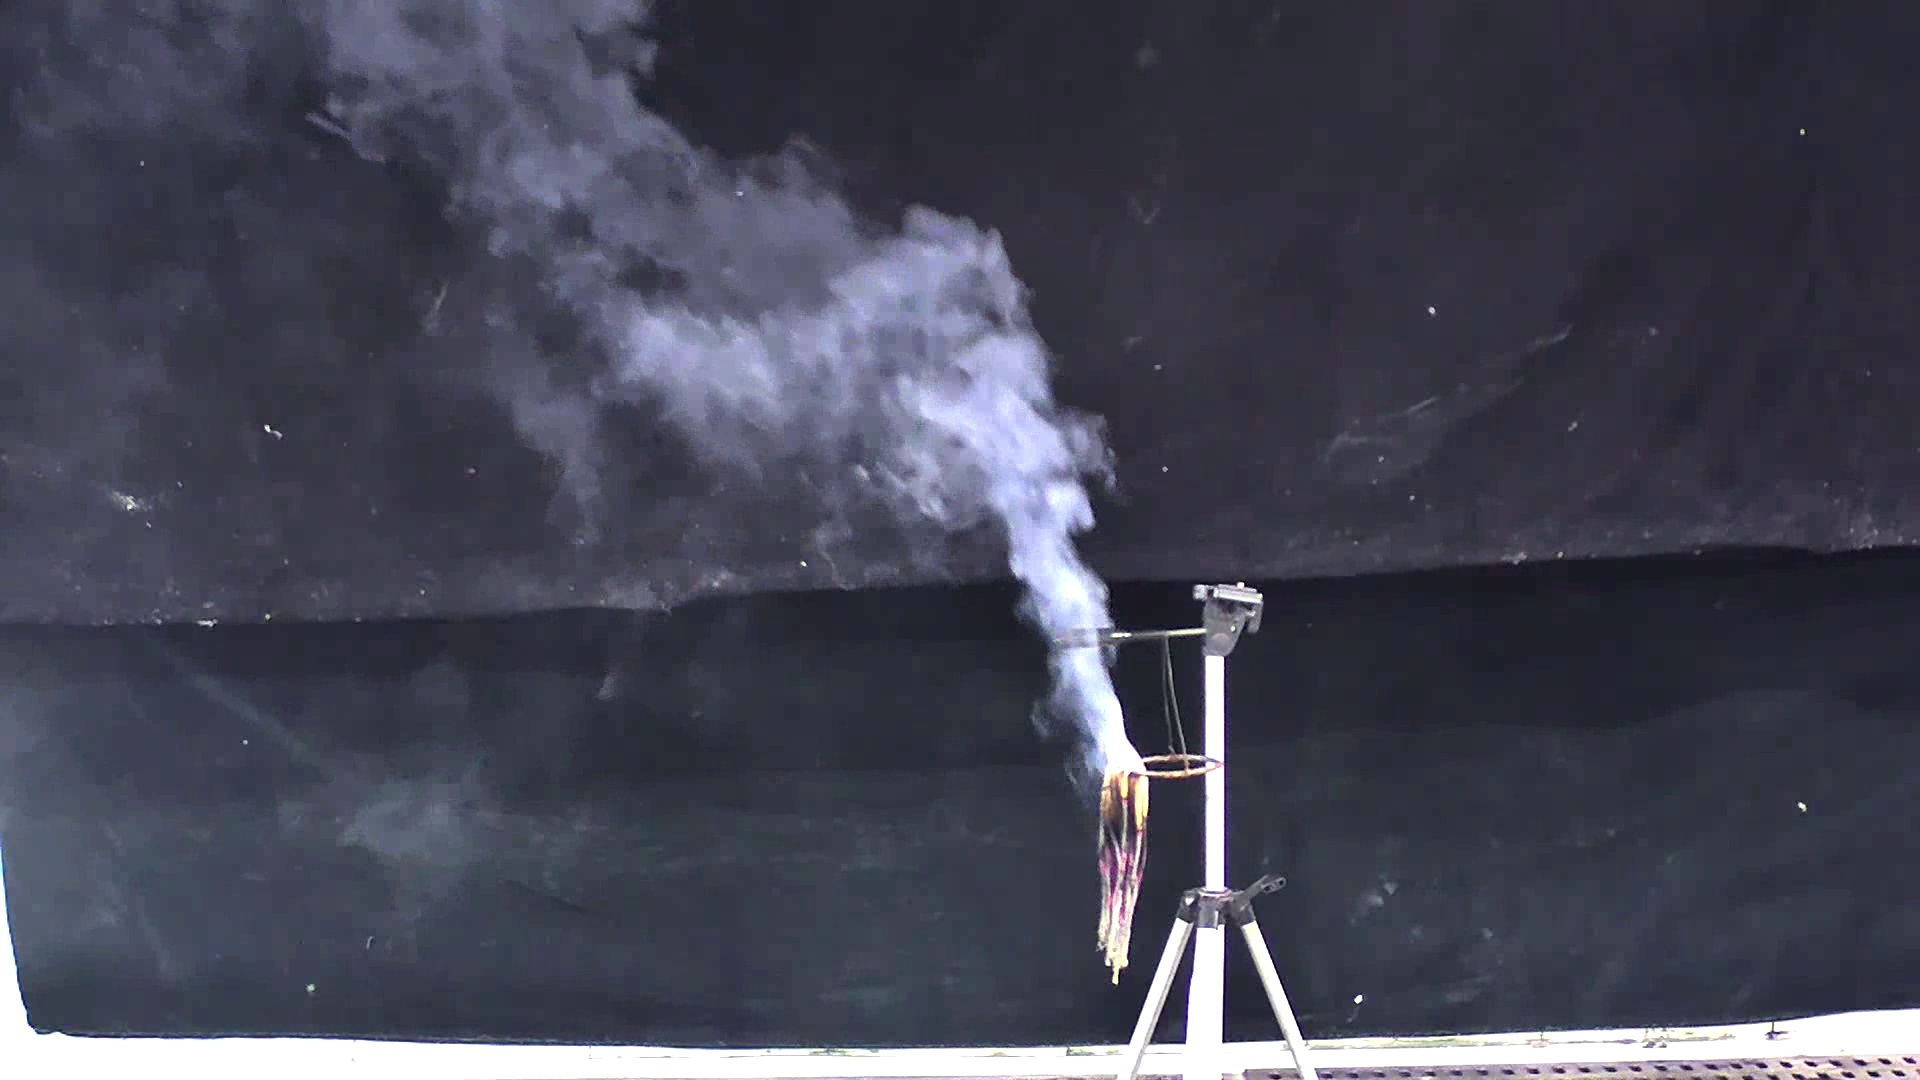smoke: (363, 16, 1164, 791)
